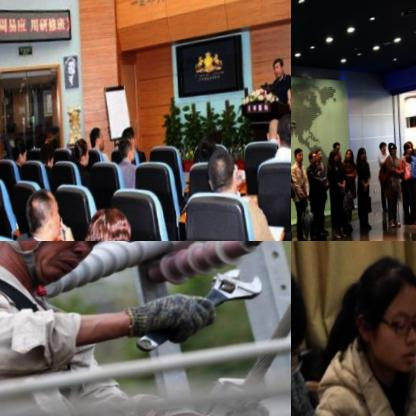head: (342, 246, 416, 377), (21, 187, 64, 241), (78, 203, 136, 241), (206, 149, 238, 195), (193, 135, 216, 167), (274, 114, 291, 157), (71, 136, 91, 169), (262, 119, 283, 150), (116, 137, 136, 166), (88, 126, 106, 153), (38, 139, 54, 166), (11, 139, 28, 164), (119, 127, 135, 152), (271, 60, 284, 80), (43, 125, 56, 144), (402, 143, 414, 159), (328, 151, 341, 164), (356, 149, 368, 163), (293, 150, 304, 165), (308, 151, 318, 166), (344, 151, 354, 163), (378, 142, 387, 155), (314, 148, 322, 162), (333, 143, 341, 157), (389, 143, 397, 157), (407, 144, 414, 155)
helmet: (0, 241, 154, 288)
